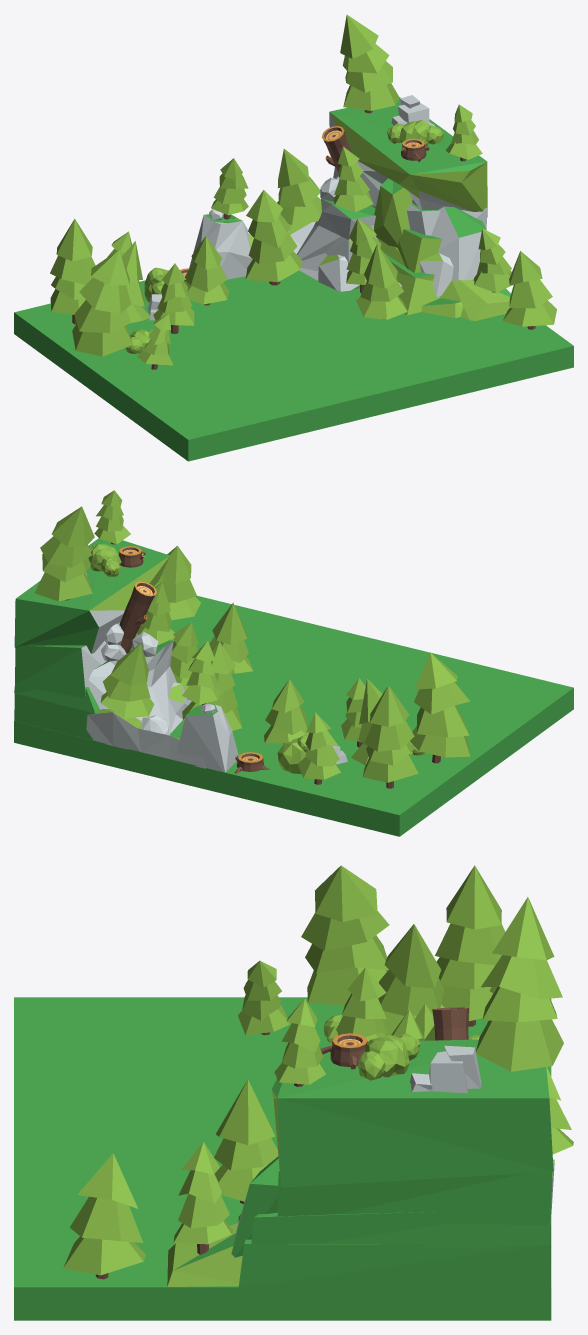
3 views of the same model, one above another, from view 1: azimuth 30°, elevation 25°; view 2: azimuth 150°, elevation 25°; view 3: azimuth 270°, elevation 25° (orthographic). The views are drawn at different scales.
Parts seen in each view (by area): view 1: group2016668438, group1952899948, group892487588, group1952414952, group643817545, group954393760, group2025258381, group624108358, group1511101908, group800851294, group1019102024, group1806860140 (+20 smaller); view 2: group2016668438, group1952899948, group892487588, group1952414952, group632722702, group2025258381, group1774266040, group1806860140, group800851294, group954393760, group1434122196, group568414040 (+17 smaller); view 3: group2016668438, group1952899948, group1434122196, group632722702, group1952414952, group1511301575, group892487588, group2025258381, group1511101908, group1019102024, group282285962, group1731338008 (+10 smaller).
Part boxes in pixels (x1,y1,x2,y2): group2016668438: [14, 270, 573, 461]; group1952899948: [329, 97, 487, 217]; group892487588: [72, 249, 132, 356]; group1952414952: [340, 14, 399, 113]; group643817545: [245, 190, 302, 285]; group954393760: [296, 198, 378, 289]; group2025258381: [50, 219, 95, 324]; group624108358: [431, 206, 486, 280]; group1511101908: [503, 251, 556, 329]; group800851294: [277, 148, 321, 225]; group1019102024: [356, 244, 407, 319]; group1806860140: [189, 214, 252, 279]; group2016668438: [14, 595, 573, 836]; group1952899948: [14, 538, 169, 653]; group892487588: [410, 652, 470, 763]; group1952414952: [35, 506, 94, 601]; group632722702: [15, 622, 120, 697]; group2025258381: [362, 685, 418, 788]; group1774266040: [86, 709, 205, 768]; group1806860140: [176, 703, 238, 772]; group800851294: [100, 643, 154, 718]; group954393760: [88, 640, 182, 733]; group1434122196: [14, 640, 174, 740]; group568414040: [264, 679, 308, 743]; group2016668438: [14, 997, 551, 1320]; group1952899948: [271, 1039, 553, 1187]; group1434122196: [238, 1214, 550, 1287]; group632722702: [277, 1170, 552, 1231]; group1952414952: [476, 897, 563, 1071]; group1511301575: [251, 1211, 550, 1249]; group892487588: [301, 865, 389, 1005]; group2025258381: [435, 865, 505, 1026]; group1511101908: [63, 1153, 145, 1279]; group1019102024: [214, 1079, 278, 1204]; group282285962: [378, 924, 444, 1035]; group1731338008: [173, 1142, 232, 1254].
Size of the model in its own units: 31.92 by 18.67 by 25.01.
